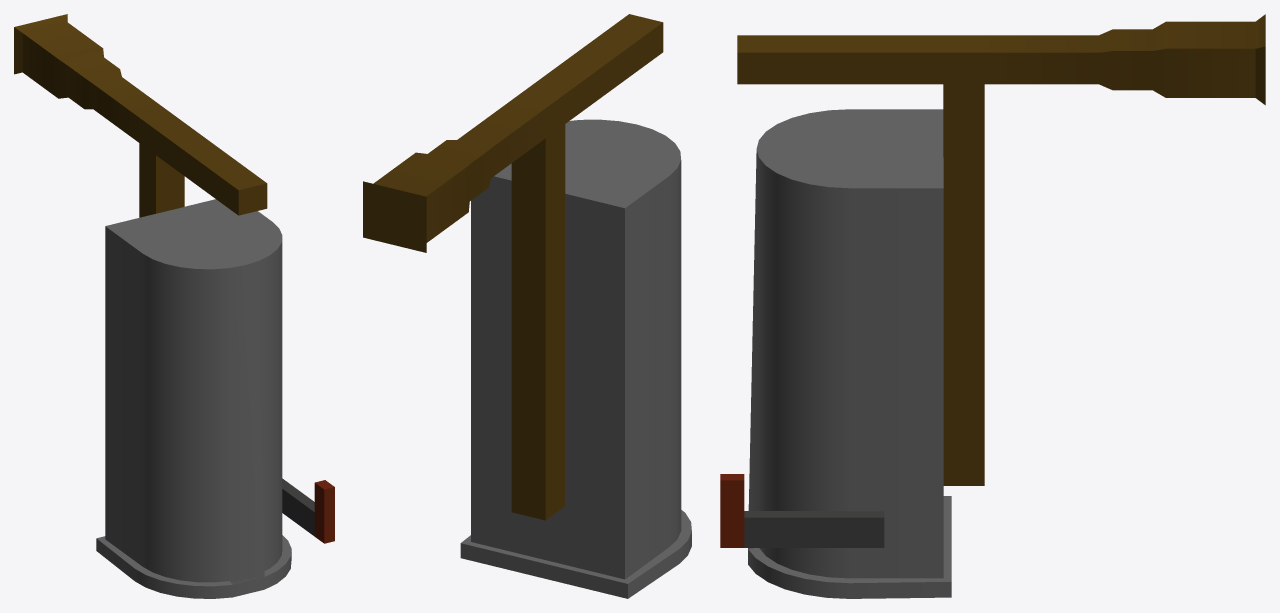
File: briefkasteen.fbx
The picture shows the model from 3 angles, left to right: view 1: azimuth 30°, elevation 25°; view 2: azimuth 150°, elevation 25°; view 3: azimuth 270°, elevation 25°; orthographic projection. The views are drawn at different scales.
Visible parts, largest first — view 1: Cube.004; view 2: Cube.004; view 3: Cube.004.
Part boxes in pixels (x1,y1,x2,y2): Cube.004: (14,14,334,598); Cube.004: (363,14,691,598); Cube.004: (720,14,1265,598).
Size of the model in its own units: 228 by 619 by 584.
